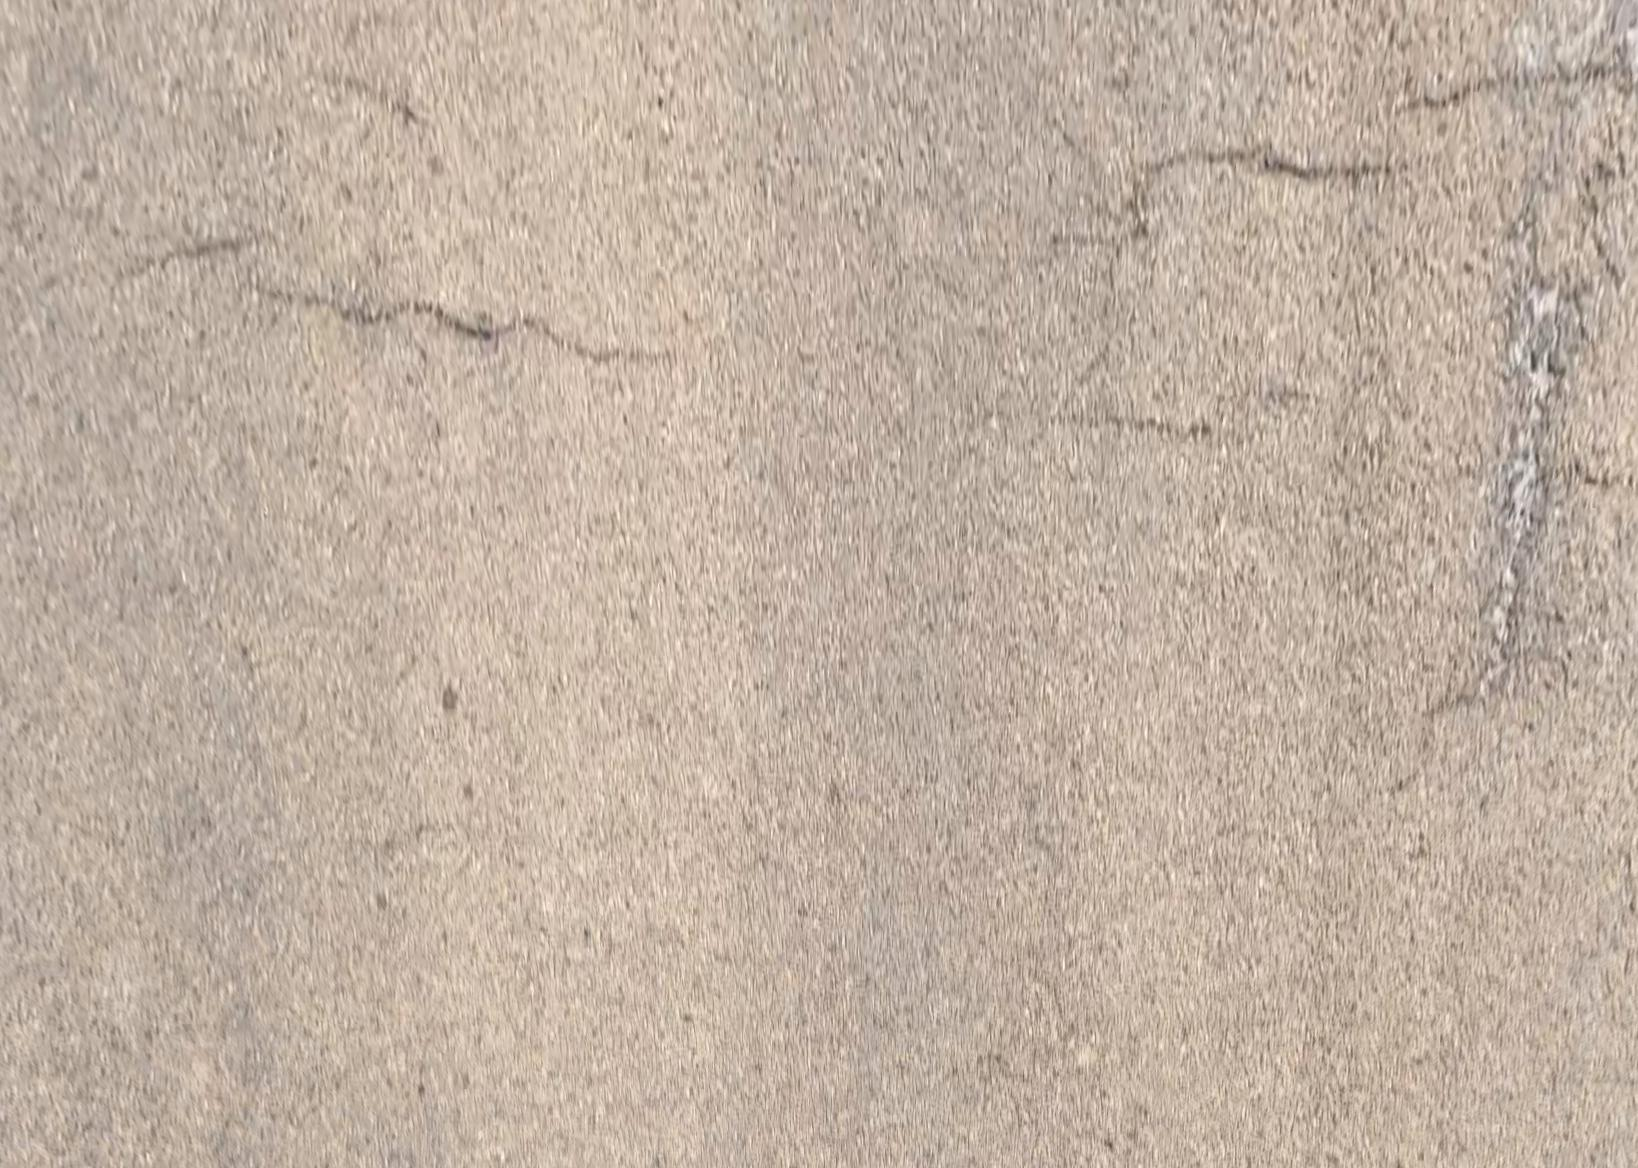pothole: (1483, 277, 1586, 691)
